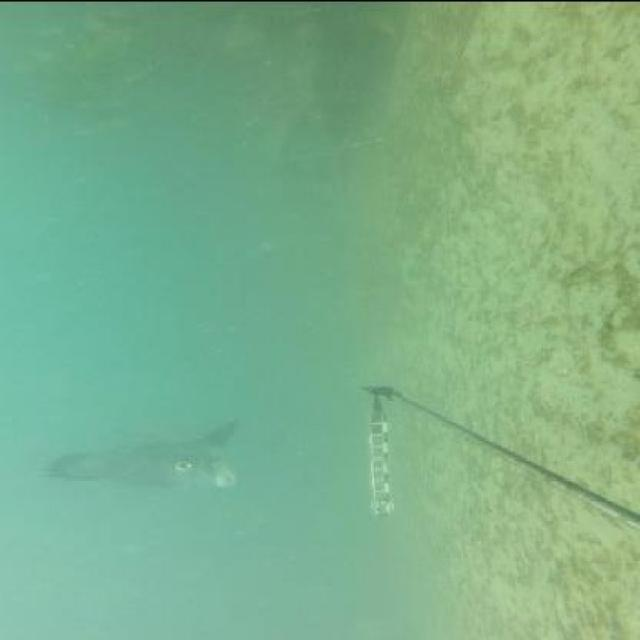acanthopagrus_palmaris: (43, 418, 246, 490)
